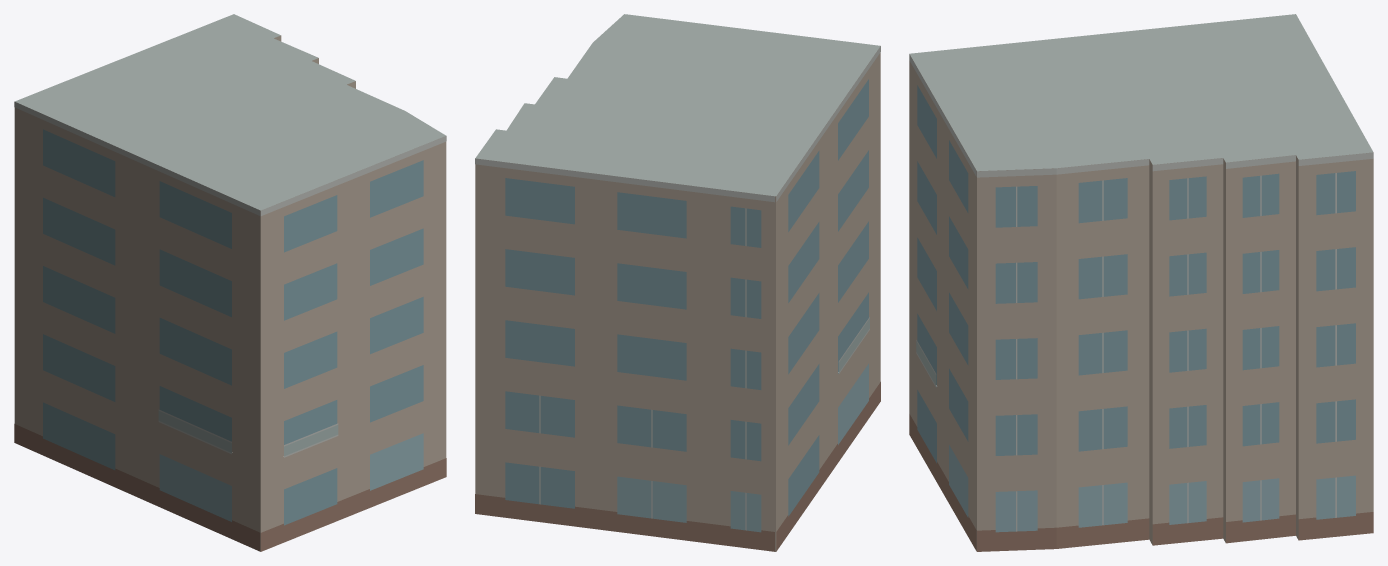
Rendered from survey-upis-33020397.glb.
The picture shows the model from 3 angles, left to right: view 1: azimuth 30°, elevation 25°; view 2: azimuth 150°, elevation 25°; view 3: azimuth 270°, elevation 25°; orthographic projection. The views are drawn at different scales.
Parts seen in each view (by area): view 1: survey-upis-33020397.tmp; view 2: survey-upis-33020397.tmp; view 3: survey-upis-33020397.tmp.
Part boxes in pixels (x1,y1,x2,y2): survey-upis-33020397.tmp: (14,14,446,551); survey-upis-33020397.tmp: (475,14,880,551); survey-upis-33020397.tmp: (909,14,1373,551).
Size of the model in its own units: 12.89 by 14.54 by 16.08.
